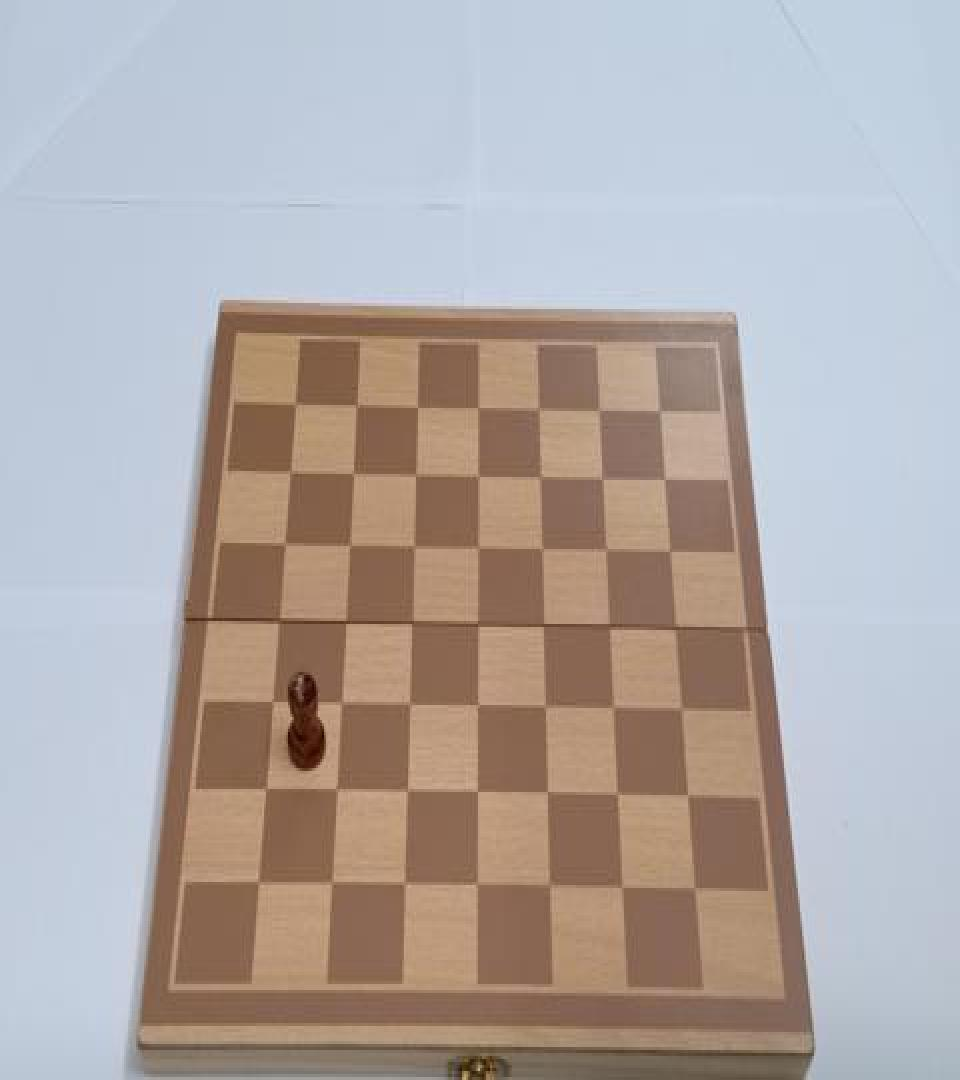xcorner: (283, 460, 301, 488), (350, 394, 368, 422), (410, 394, 428, 422), (594, 466, 612, 494), (651, 400, 669, 428), (672, 694, 690, 722), (289, 393, 307, 420), (278, 532, 296, 559), (271, 609, 289, 636), (265, 689, 283, 716), (251, 867, 269, 894), (346, 462, 364, 489), (342, 532, 360, 559), (338, 609, 356, 636), (333, 690, 351, 717), (324, 868, 342, 895), (408, 462, 426, 489), (406, 534, 424, 561), (404, 610, 422, 637), (399, 777, 417, 804), (396, 868, 414, 895), (471, 396, 489, 423), (470, 612, 488, 639), (469, 777, 487, 804), (469, 868, 487, 895), (531, 397, 549, 424), (532, 465, 550, 492), (534, 537, 552, 564), (535, 612, 553, 639), (537, 693, 555, 720), (539, 778, 557, 805), (541, 870, 559, 897), (591, 399, 609, 426), (597, 537, 615, 564), (605, 693, 623, 720), (609, 780, 627, 807), (613, 870, 631, 897), (656, 468, 674, 495), (661, 538, 679, 565), (666, 615, 684, 642), (678, 780, 696, 807), (258, 776, 276, 802), (329, 776, 347, 802), (402, 692, 420, 718), (470, 464, 488, 490), (470, 536, 488, 562), (469, 692, 487, 718), (601, 614, 619, 640), (685, 872, 703, 898)
